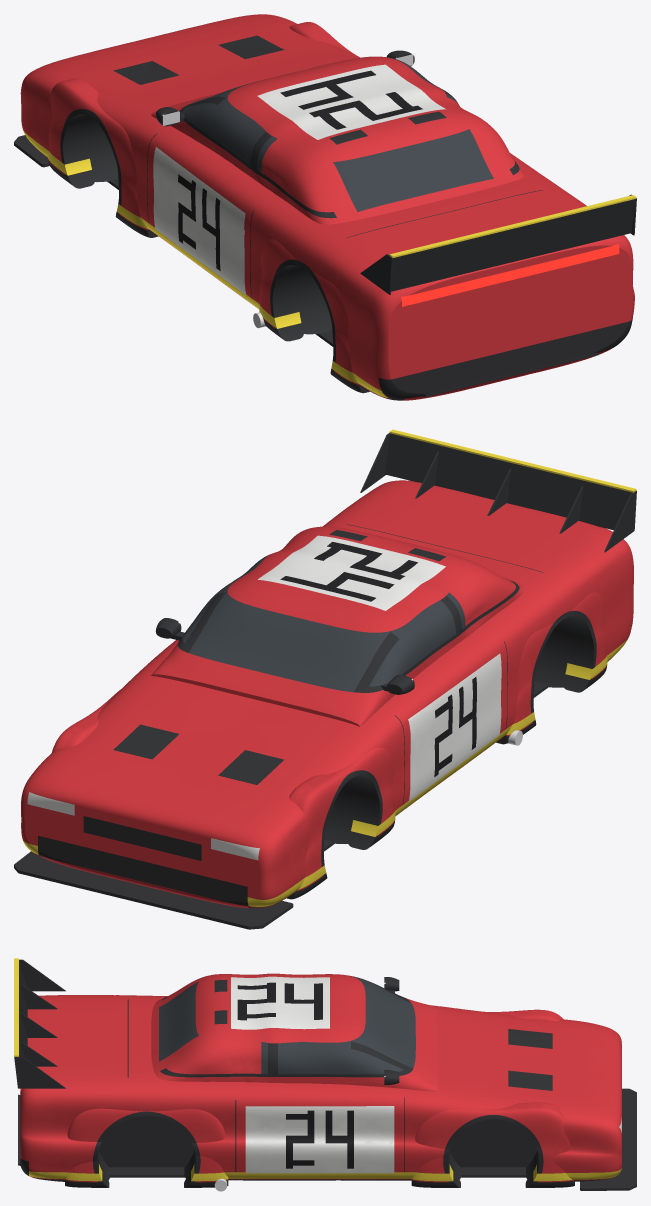
Rendered from body.glb.
3 renders of one model, top to bottom at view 1: azimuth 30°, elevation 25°; view 2: azimuth 150°, elevation 25°; view 3: azimuth 270°, elevation 25°, orthographic. The views are drawn at different scales.
Visible parts, largest first — view 1: Livery, Carbon, LiveryWhite, Glass, Accent, Number, Light; view 2: Livery, Carbon, Glass, LiveryWhite, Accent, Number, Headlight; view 3: Livery, Carbon, LiveryWhite, Glass, Accent, Number.
Part boxes in pixels (x1,y1,x2,y2): Livery: (20, 14, 634, 400); Carbon: (14, 35, 636, 400); LiveryWhite: (153, 64, 445, 294); Glass: (183, 56, 493, 211); Accent: (23, 130, 636, 397); Number: (178, 70, 422, 270); Light: (401, 244, 619, 306); Livery: (21, 480, 633, 908); Carbon: (14, 433, 636, 929); Glass: (182, 558, 470, 692); LiveryWhite: (258, 535, 501, 801); Accent: (23, 429, 636, 906); Number: (280, 542, 476, 777); Headlight: (27, 792, 259, 860); Livery: (20, 973, 621, 1182); Carbon: (14, 959, 636, 1190); LiveryWhite: (231, 976, 394, 1173); Glass: (159, 975, 415, 1074); Accent: (14, 958, 621, 1181); Number: (237, 982, 353, 1168).
Size of the model in its own units: 2.01 by 1.26 by 5.03.
